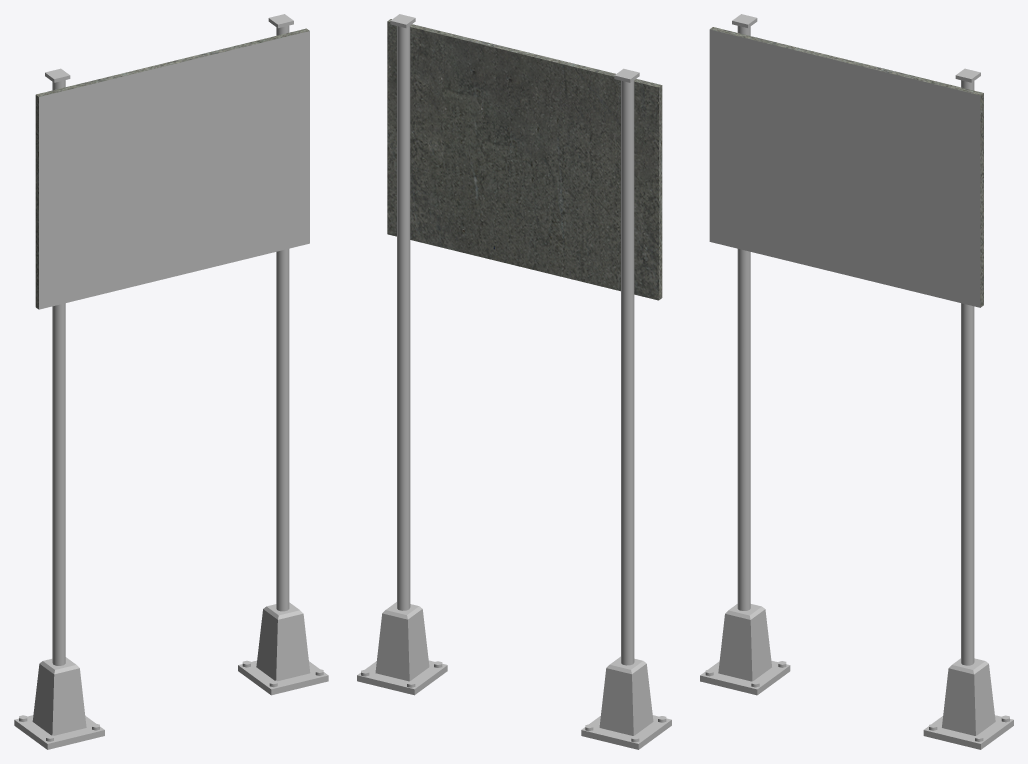
Rendered from DT_Sign_post_type0505.fbx.
3 views of the same model, side by side, from view 1: azimuth 30°, elevation 25°; view 2: azimuth 150°, elevation 25°; view 3: azimuth 330°, elevation 25° (orthographic).
Parts seen in each view (by area): view 1: DT_Sign_post_type0505; view 2: DT_Sign_post_type0505; view 3: DT_Sign_post_type0505.
Part boxes in pixels (x1=…): DT_Sign_post_type0505: x1=14, y1=14, x2=328, y2=749; DT_Sign_post_type0505: x1=357, y1=14, x2=671, y2=749; DT_Sign_post_type0505: x1=700, y1=14, x2=1013, y2=749.
Bounding box in the file's own units: 118 × 264 × 24.11.
